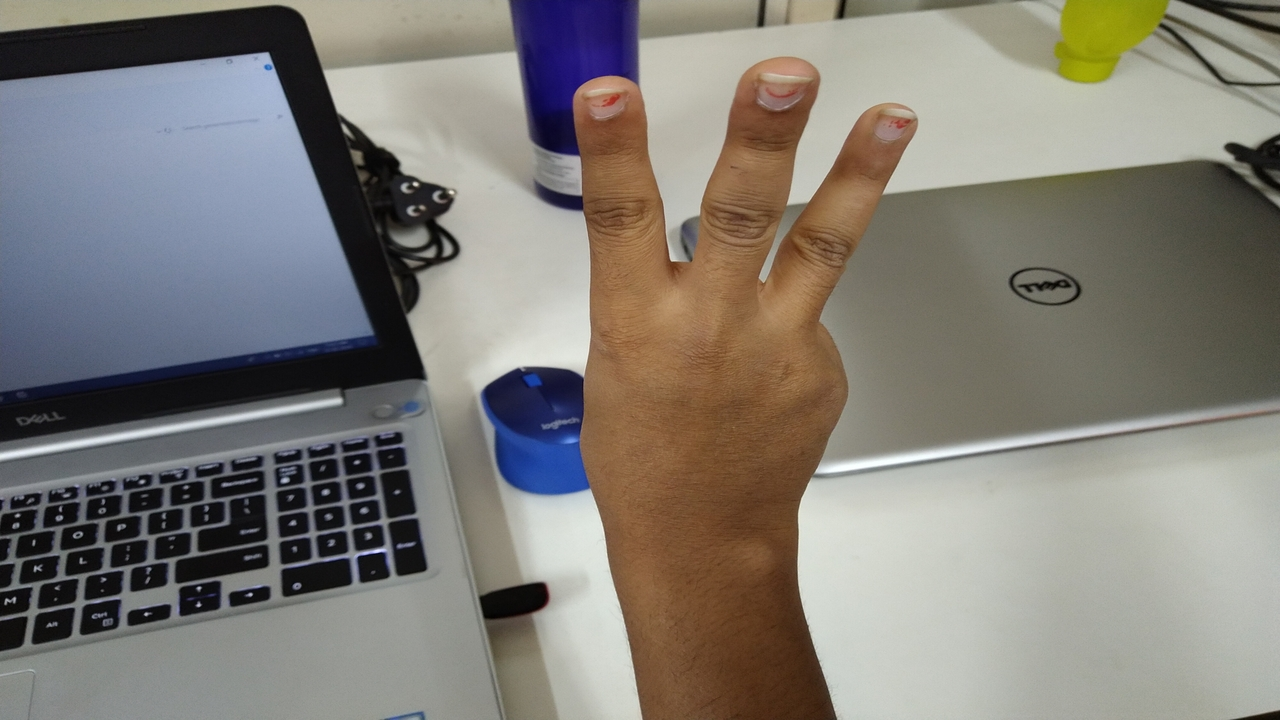fingertip: (738, 52, 828, 120), (570, 72, 644, 130), (852, 98, 926, 152)
